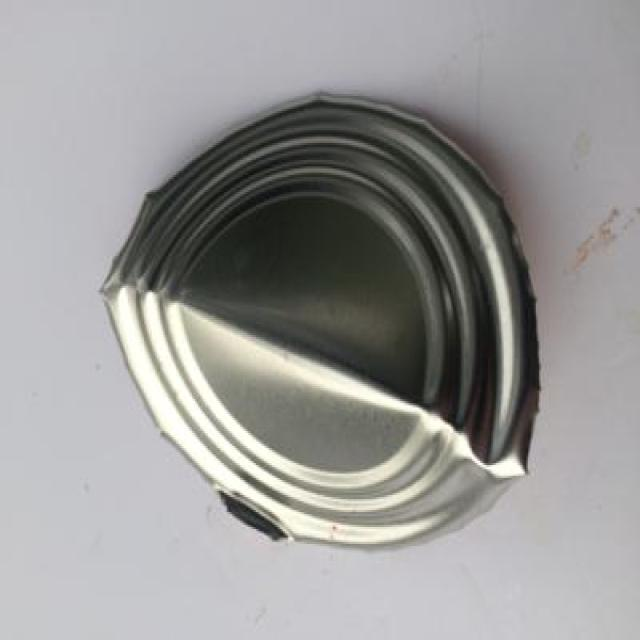metal: (92, 86, 543, 538)
